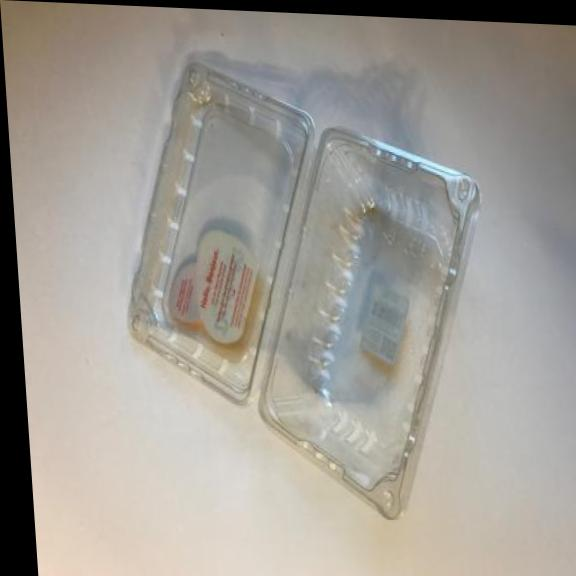Plastik: (98, 39, 512, 535)
